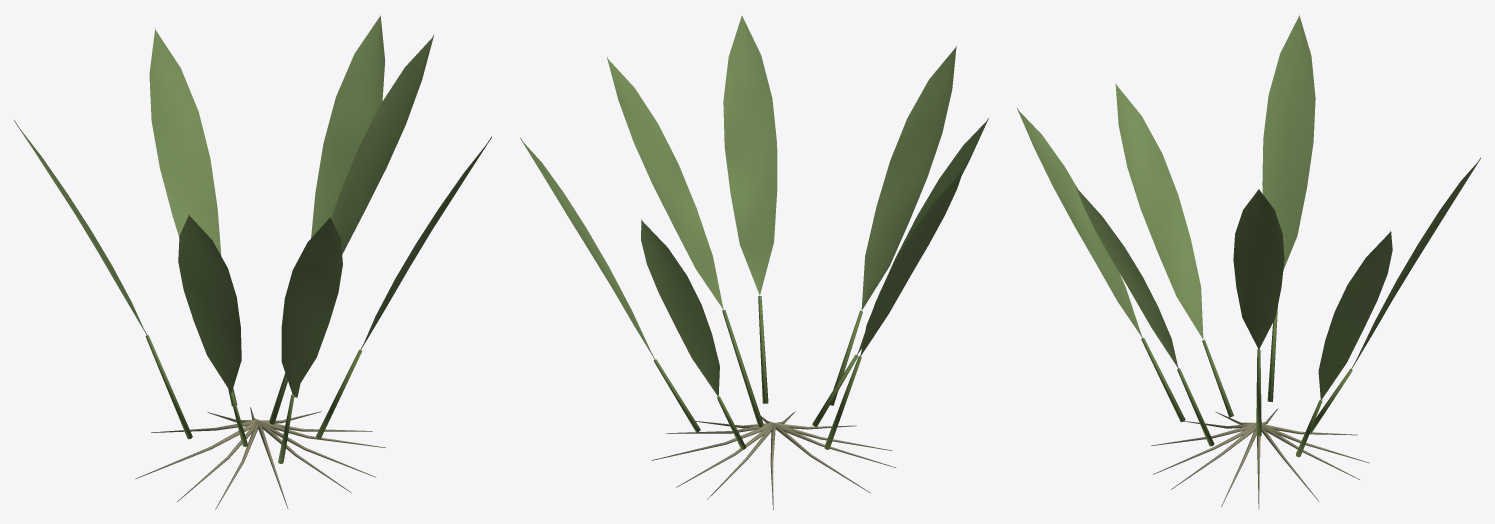
The model's file is stauro-mobile.glb.
The picture shows the model from 3 angles, left to right: view 1: azimuth 30°, elevation 25°; view 2: azimuth 150°, elevation 25°; view 3: azimuth 270°, elevation 25°; orthographic projection. The views are drawn at different scales.
Visible parts, largest first — view 1: blade, anchoring-root, petiole; view 2: blade, petiole, anchoring-root; view 3: blade, petiole, anchoring-root.
Part boxes in pixels (x1=…): blade: x1=14, y1=15, x2=491, y2=394; anchoring-root: x1=135, y1=407, x2=385, y2=509; petiole: x1=145, y1=335, x2=362, y2=463; blade: x1=520, y1=16, x2=988, y2=396; petiole: x1=654, y1=296, x2=862, y2=449; anchoring-root: x1=651, y1=411, x2=895, y2=509; blade: x1=1017, y1=14, x2=1480, y2=400; petiole: x1=1141, y1=306, x2=1352, y2=457; anchoring-root: x1=1151, y1=408, x2=1369, y2=509.
Bounding box in the file's own units: 0.4745 × 0.4158 × 0.4998.
